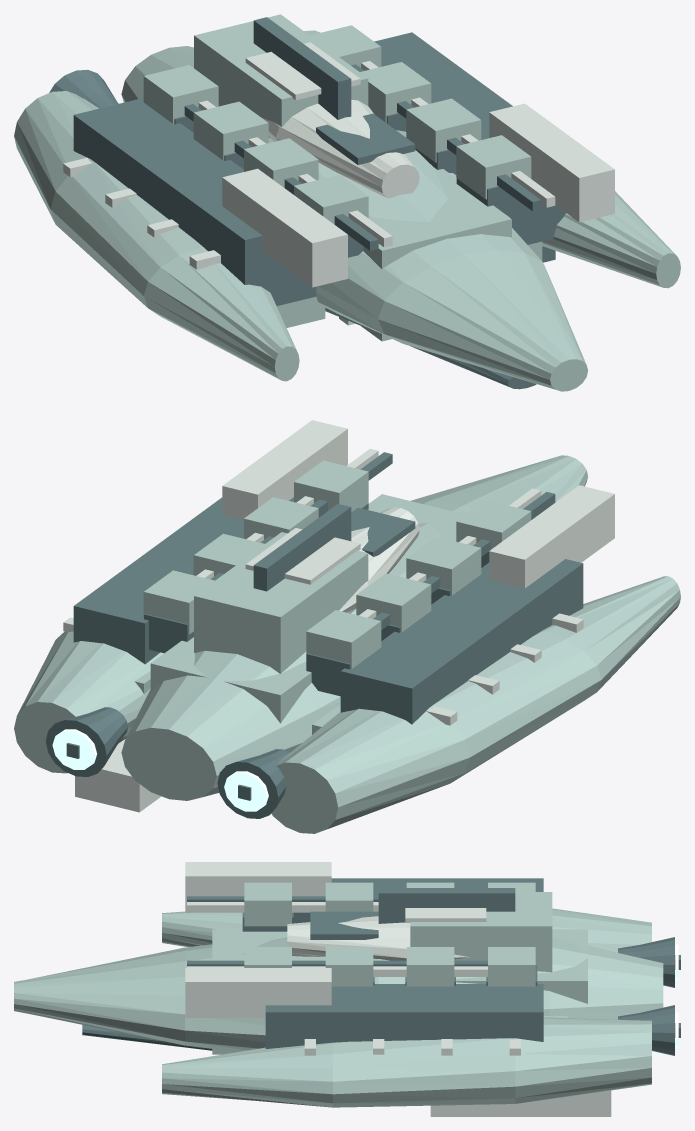
The picture shows the model from 3 angles, top to bottom: view 1: azimuth 30°, elevation 25°; view 2: azimuth 150°, elevation 25°; view 3: azimuth 270°, elevation 25°; orthographic projection. The views are drawn at different scales.
Bounding box in the file's own units: 16.9 × 7.67 × 26.27.
